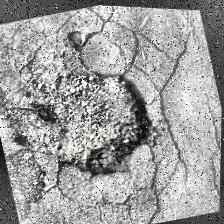pothole: (38, 58, 164, 190)
